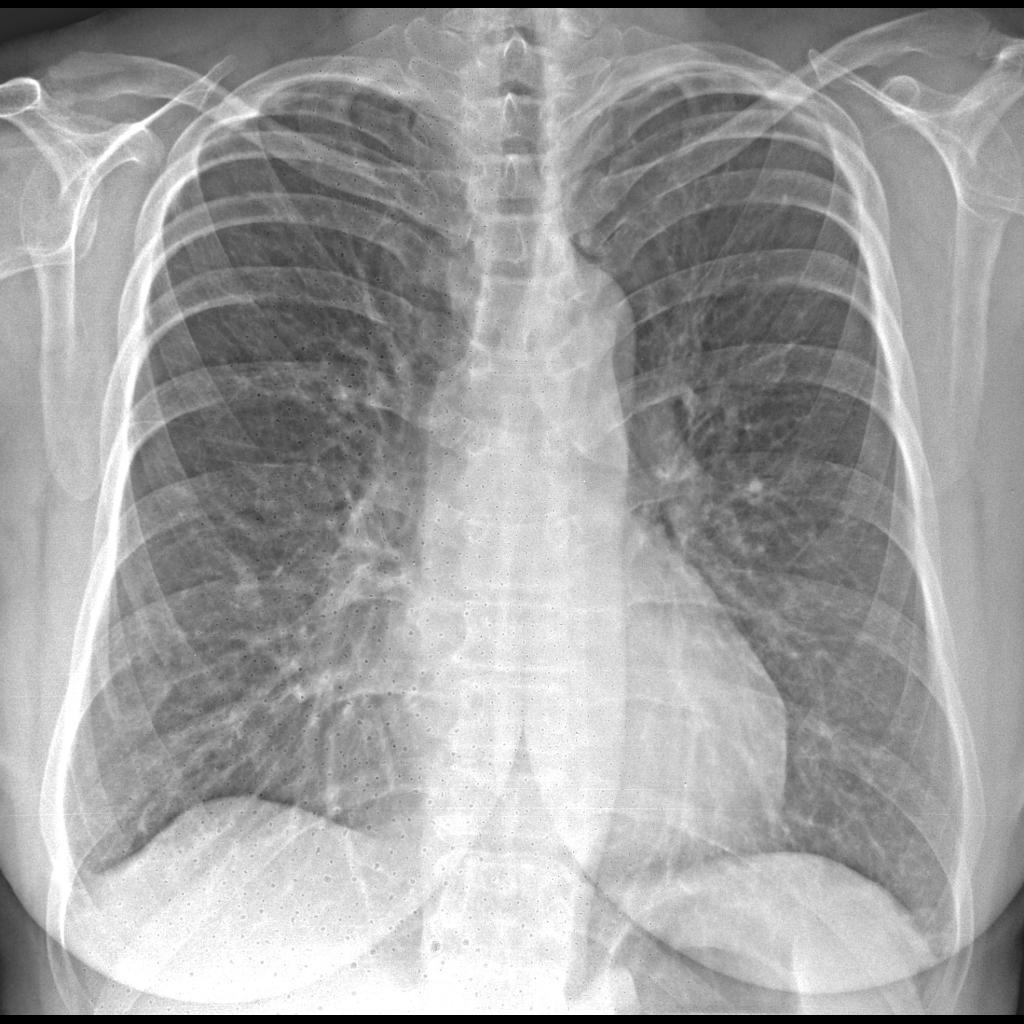Nodule: (219, 567, 270, 625)
